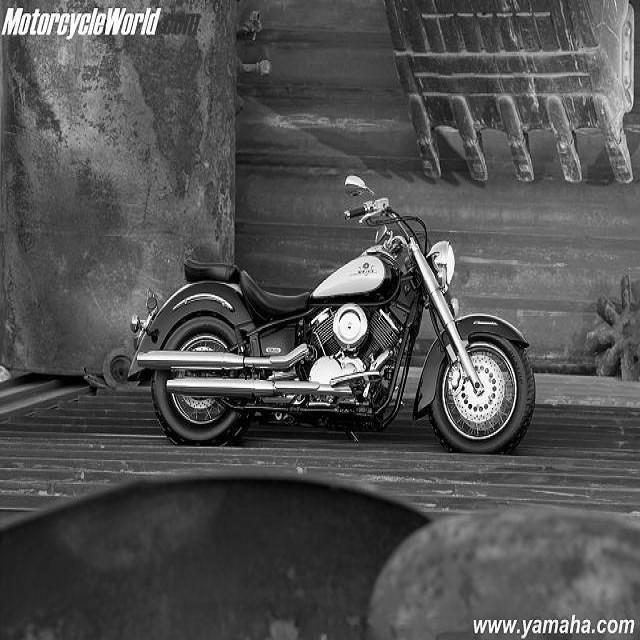Motorcycle: (130, 198, 536, 452)
